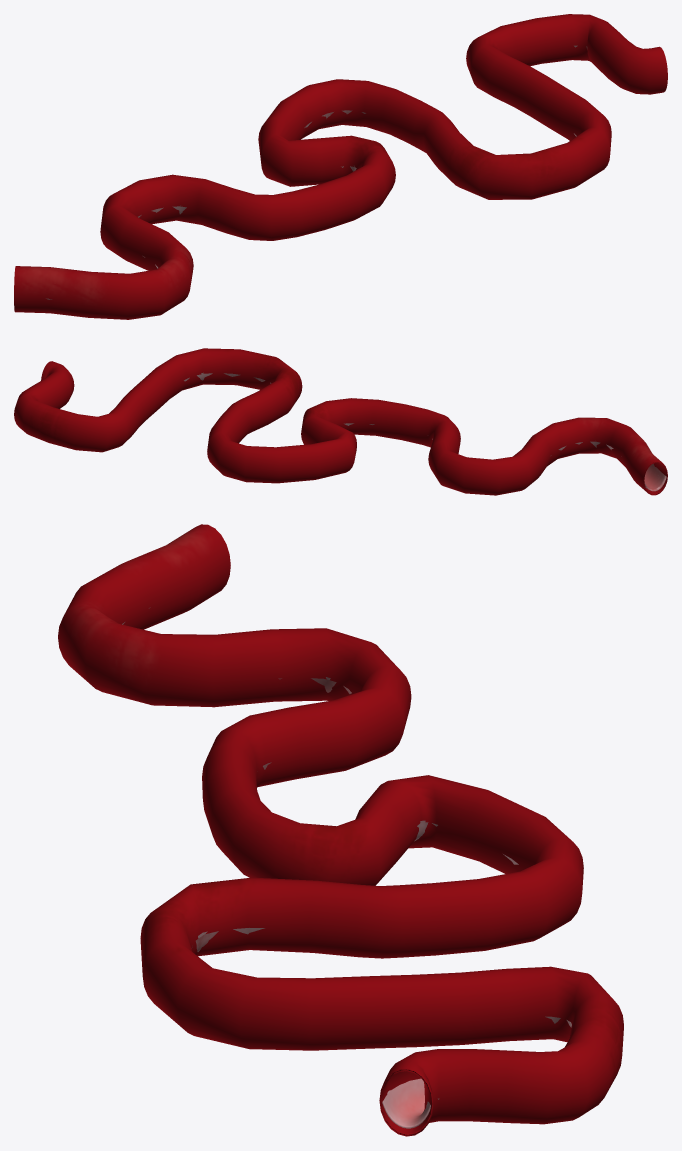
File: Vena02.fbx
3 renders of one model, top to bottom at view 1: azimuth 30°, elevation 25°; view 2: azimuth 150°, elevation 25°; view 3: azimuth 270°, elevation 25°, orthographic. The views are drawn at different scales.
Parts seen in each view (by area): view 1: Vena02; view 2: Vena02; view 3: Vena02.
Boxes of the visible parts, x1=… form: Vena02: x1=14, y1=14, x2=667, y2=319; Vena02: x1=14, y1=348, x2=667, y2=495; Vena02: x1=58, y1=524, x2=623, y2=1136.
Bounding box in the file's own units: 5083 × 295 × 2206.
Materials: 1 (1 with a texture image).
